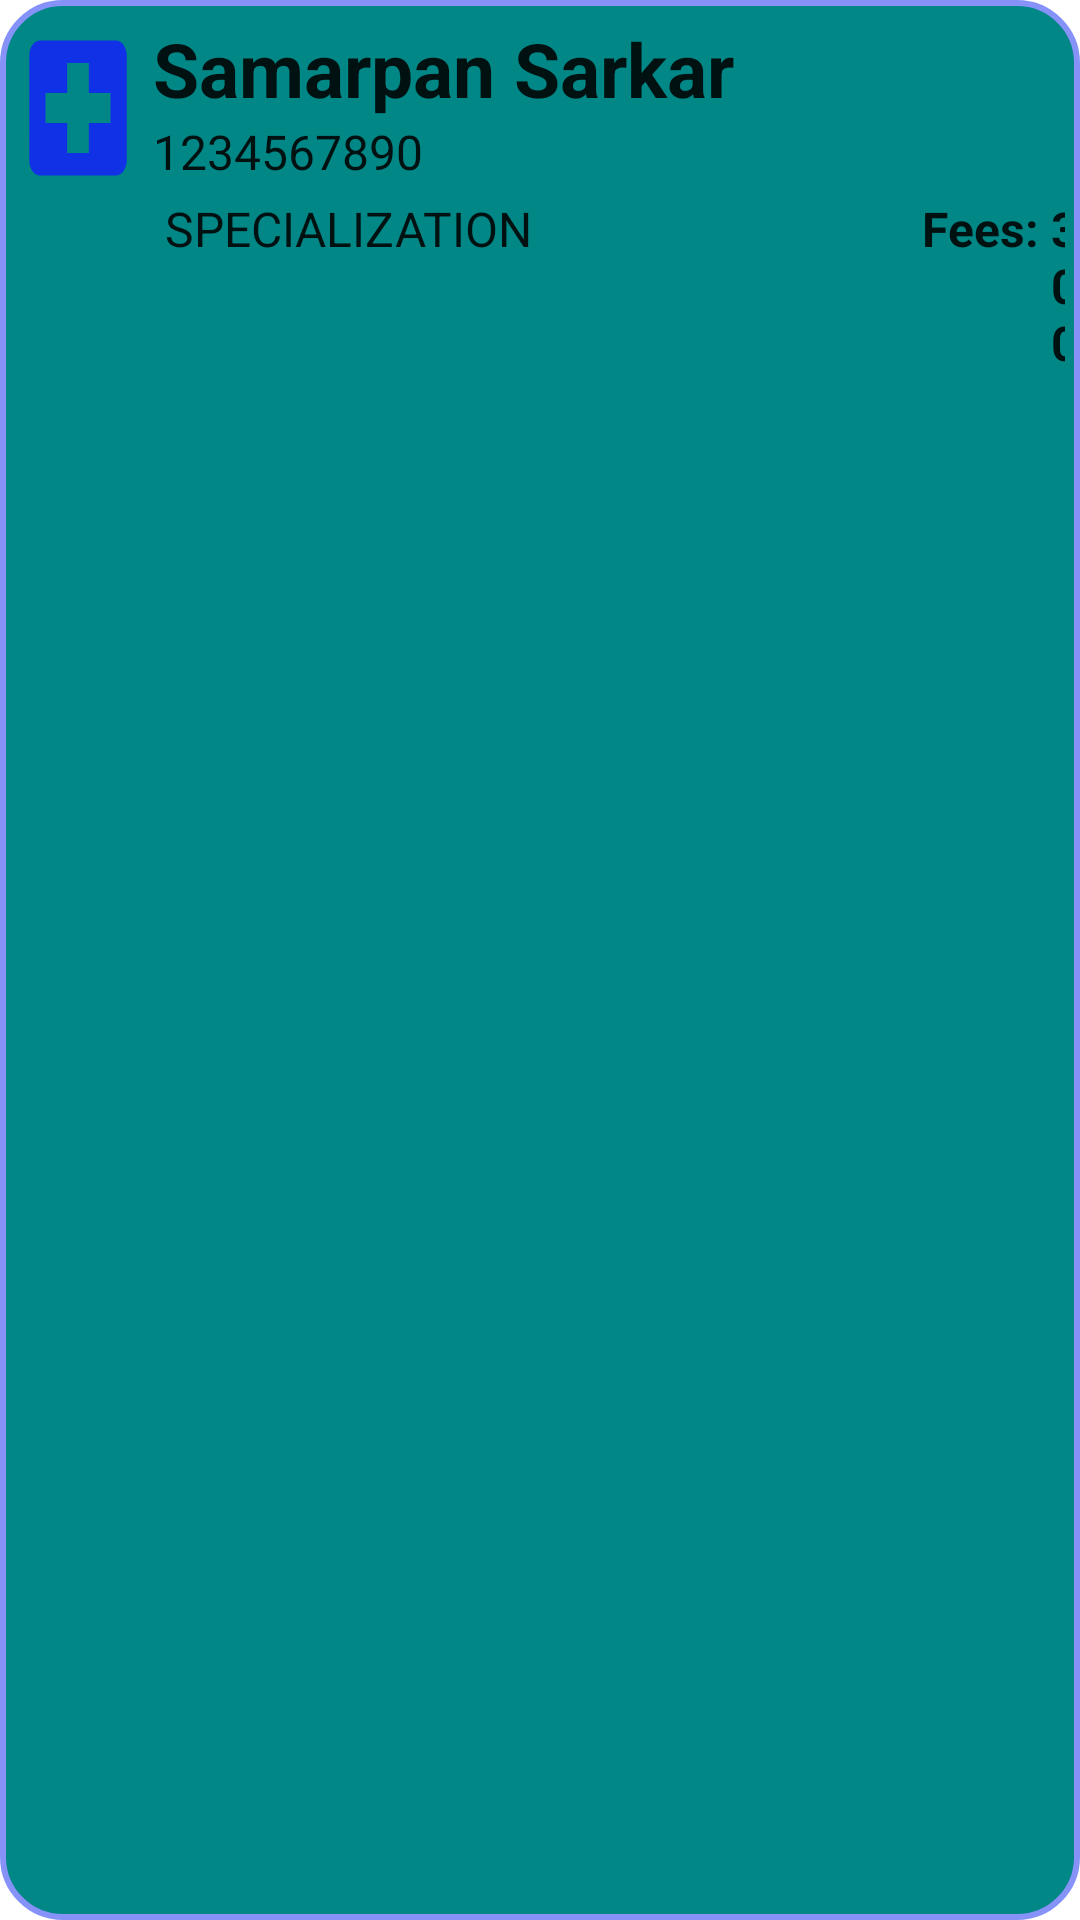

Screen size 1080*1920. Icon name, then its box in pixels as (x1, y1, x2, y2):
local hospital: (29, 40, 127, 176)
